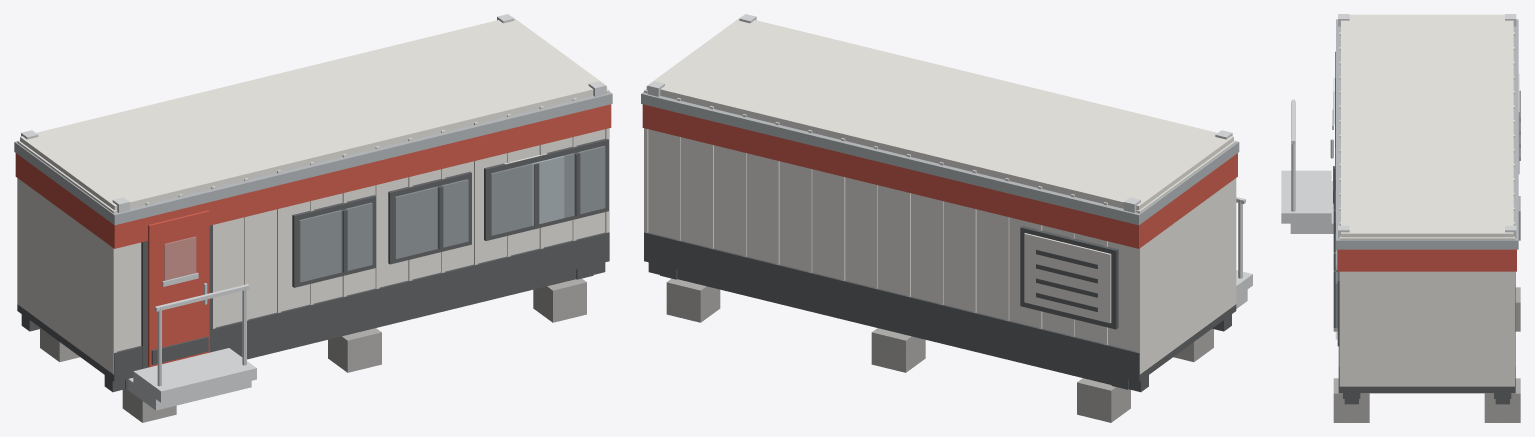
The model's file is demolition-and-site-clearance-demolition-and-site-clea-4365708d.glb.
The picture shows the model from 3 angles, left to right: view 1: azimuth 30°, elevation 25°; view 2: azimuth 150°, elevation 25°; view 3: azimuth 270°, elevation 25°; orthographic projection. The views are drawn at different scales.
Visible parts, largest first — view 1: demolition-and-site-clearance-site-office-cabin, cabin-door/red, cabin-door/glass, cabin-door/charcoal; view 2: demolition-and-site-clearance-site-office-cabin; view 3: demolition-and-site-clearance-site-office-cabin.
Part boxes in pixels (bbox=[...]): demolition-and-site-clearance-site-office-cabin: bbox=[14, 14, 612, 422]; cabin-door/red: bbox=[148, 210, 209, 367]; cabin-door/glass: bbox=[164, 236, 196, 280]; cabin-door/charcoal: bbox=[151, 336, 208, 364]; demolition-and-site-clearance-site-office-cabin: bbox=[641, 14, 1252, 422]; demolition-and-site-clearance-site-office-cabin: bbox=[1281, 14, 1520, 422].
Bounding box in the file's own units: 7.28 × 3.1 × 3.33.
7 materials, 1 textured.
